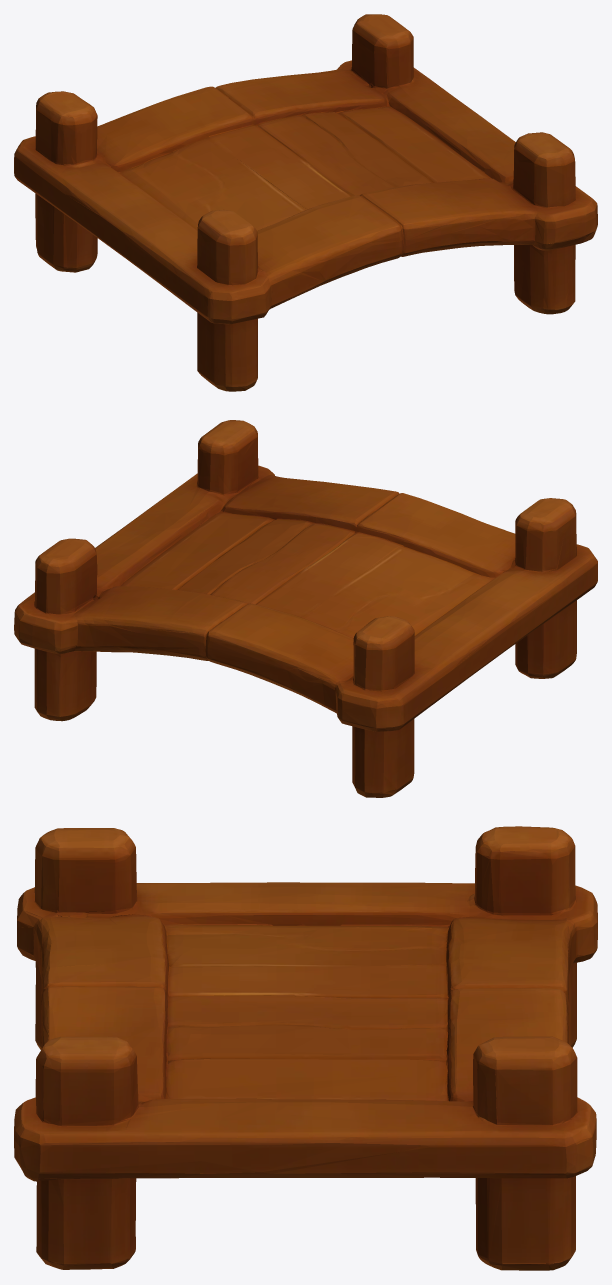
The model's file is wood_platform.glb.
3 views of the same model, one above another, from view 1: azimuth 30°, elevation 25°; view 2: azimuth 150°, elevation 25°; view 3: azimuth 270°, elevation 25° (orthographic). The views are drawn at different scales.
Visible parts, largest first — view 1: geometry_0; view 2: geometry_0; view 3: geometry_0.
Part boxes in pixels (<box>): geometry_0: <box>14,14,597,391</box>; geometry_0: <box>14,420,597,797</box>; geometry_0: <box>14,826,597,1270</box>.
Size of the model in its own units: 0.9993 by 0.392 by 0.9583.
Materials: 1 (1 with a texture image).
